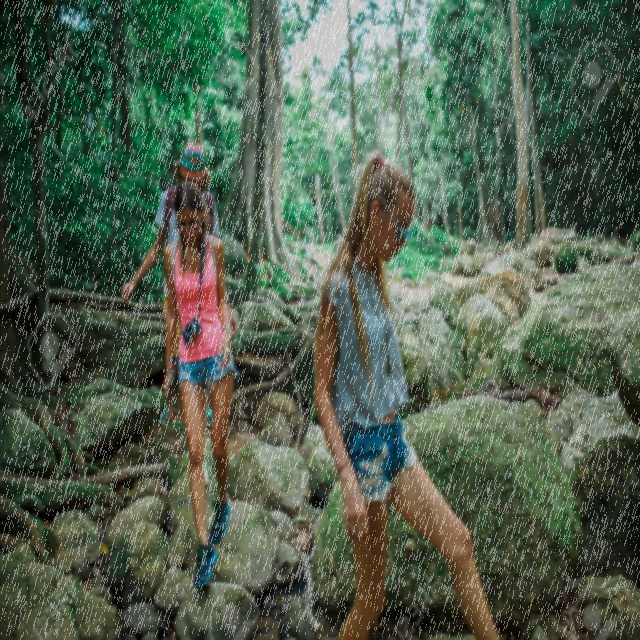pessoa: (310, 143, 526, 640), (119, 140, 238, 488), (160, 177, 242, 592)
